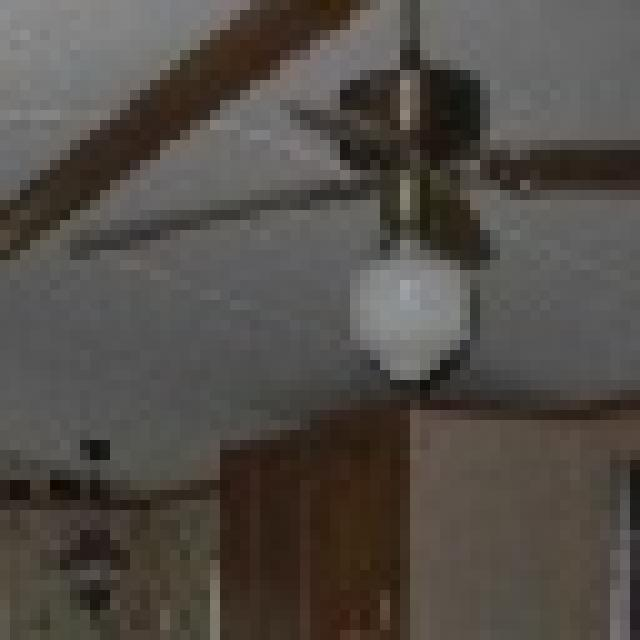Bulb: (51, 70, 640, 402)
